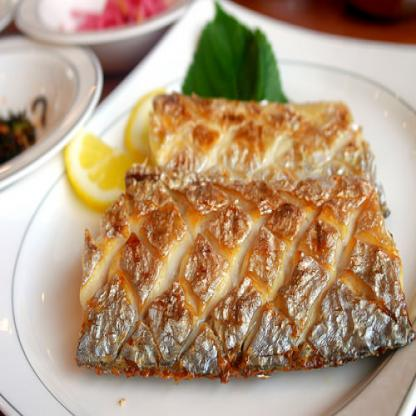Peixe: (71, 81, 389, 376)
